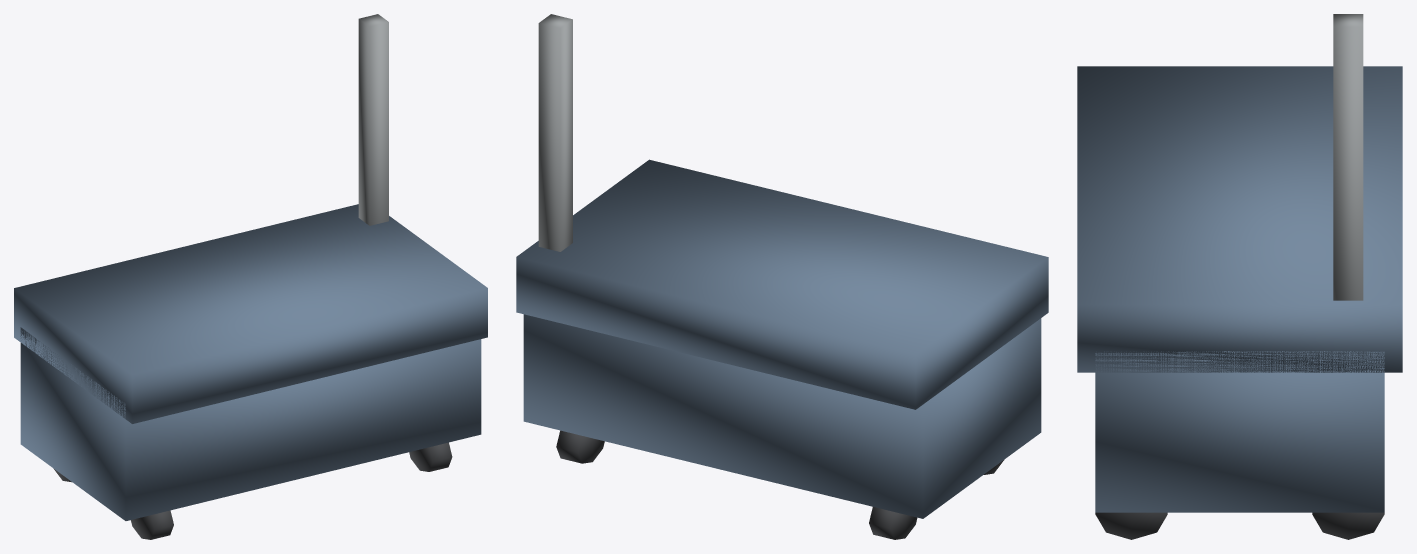
The model's file is cleaning_cart__squat.glb.
The picture shows the model from 3 angles, left to right: view 1: azimuth 30°, elevation 25°; view 2: azimuth 150°, elevation 25°; view 3: azimuth 270°, elevation 25°; orthographic projection. The views are drawn at different scales.
Visible parts, largest first — view 1: world; view 2: world; view 3: world.
Part boxes in pixels (left/top/right/bottom): world: left=14, top=14, right=487, bottom=539; world: left=516, top=14, right=1048, bottom=539; world: left=1077, top=14, right=1402, bottom=539.
Size of the model in its own units: 1.01 by 1.05 by 0.5832.
